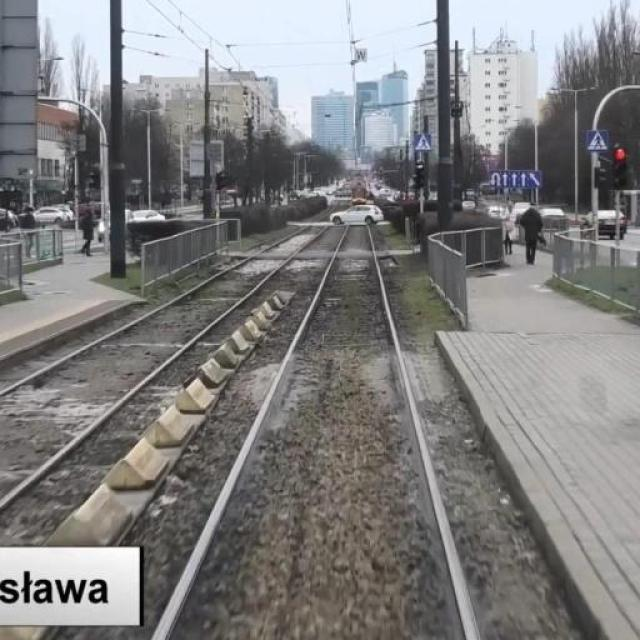people: (520, 205, 545, 268), (74, 200, 96, 261), (500, 204, 519, 254)
vehicle: (325, 195, 384, 232)
